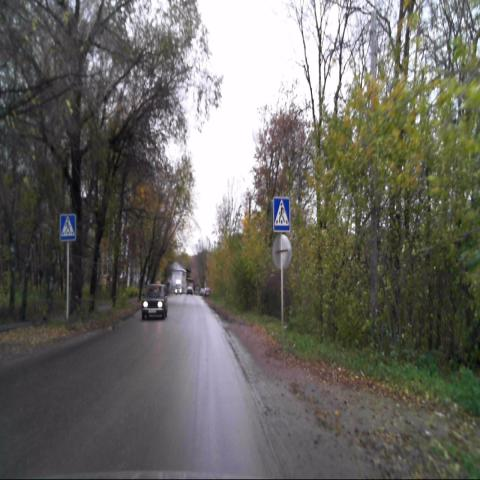5_19_1: (273, 197, 290, 232), (59, 214, 76, 239)
